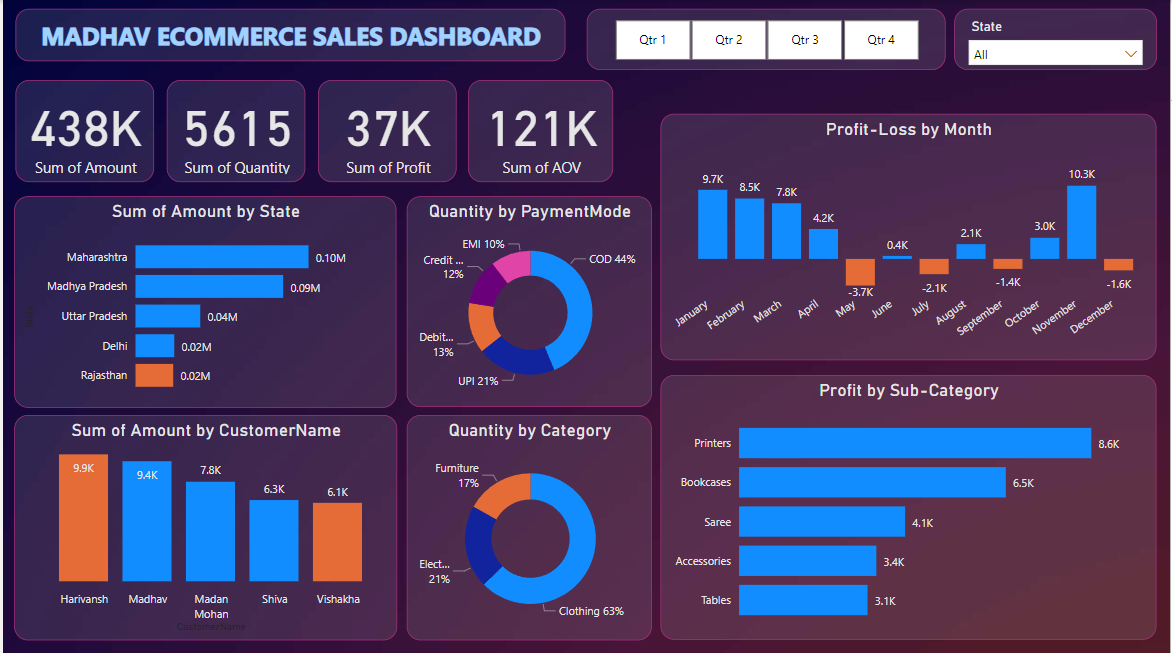

The dashboard page shown, as its layout file describes it:
{"tool":"powerbi","page":{"name":"Page 1","canvas":[1280,720],"ordinal":0},"visuals":[{"type":"columnChart","title":"Profit-Loss by Month","fields":{"Y":["Details.Profit"],"Category":["Orders.Order Date.Variation.Date Hierarchy.Month"]},"box":[721.2,125.4,543.9,270.2],"z":0},{"type":"textbox","box":[13.3,9.6,603,57.9],"z":1000},{"type":"barChart","title":"Profit by Sub-Category","fields":{"Category":["Details.Sub-Category"],"Y":["Details.Profit"]},"box":[721.2,411.3,543.9,290.7],"z":2000},{"type":"donutChart","title":"Quantity by Category","fields":{"Category":["Details.Category"],"Y":["Details.Quantity"]},"box":[442.6,454.7,268.9,247.2],"z":3000},{"type":"donutChart","title":"Quantity by PaymentMode","fields":{"Category":["Details.PaymentMode"],"Y":["Details.Quantity"]},"box":[442.6,214.7,268.9,231.6],"z":4000},{"type":"card","fields":{"Values":["Details.Amount"]},"box":[13.3,88,152,112.2],"z":5000},{"type":"card","fields":{"Values":["Details.Quantity"]},"box":[179.7,88,152,112.2],"z":6000},{"type":"card","fields":{"Values":["Details.Profit"]},"box":[346.1,88,152,112.2],"z":7000},{"type":"card","fields":{"Values":["Details.AOV"]},"box":[510.2,88,159.2,112.2],"z":8000},{"type":"barChart","fields":{"Y":["Details.Amount"],"Category":["Orders.State"]},"box":[12.3,215.3,419.5,231.7],"z":9000},{"type":"columnChart","fields":{"Category":["Orders.CustomerName"],"Y":["Details.Amount"]},"box":[12,455,420,247],"z":10000},{"type":"slicer","fields":{"Values":["Orders.Order Date.Variation.Date Hierarchy.Quarter"]},"box":[640.3,9.6,393.5,67.2],"z":11000},{"type":"slicer","fields":{"Values":["Orders.State"]},"box":[1043.4,9.6,222.1,67.2],"z":12000}]}

Visuals, with their boxes in screenshot pixels (x1, y1, x2, y2), scaled from the page's 1280x720 canvas onto the 1172x653 screenshot:
"Profit-Loss by Month" columnChart: bbox=(660, 114, 1158, 359)
textbox: bbox=(12, 9, 564, 61)
"Profit by Sub-Category" barChart: bbox=(660, 373, 1158, 637)
"Quantity by Category" donutChart: bbox=(405, 412, 651, 637)
"Quantity by PaymentMode" donutChart: bbox=(405, 195, 651, 405)
card - Details.Amount: bbox=(12, 80, 151, 182)
card - Details.Quantity: bbox=(165, 80, 304, 182)
card - Details.Profit: bbox=(317, 80, 456, 182)
card - Details.AOV: bbox=(467, 80, 613, 182)
barChart - Details.Amount x Orders.State: bbox=(11, 195, 395, 405)
columnChart - Orders.CustomerName x Details.Amount: bbox=(11, 413, 396, 637)
slicer - Orders.Order Date.Variation.Date Hierarchy.Quarter: bbox=(586, 9, 947, 70)
slicer - Orders.State: bbox=(955, 9, 1159, 70)
